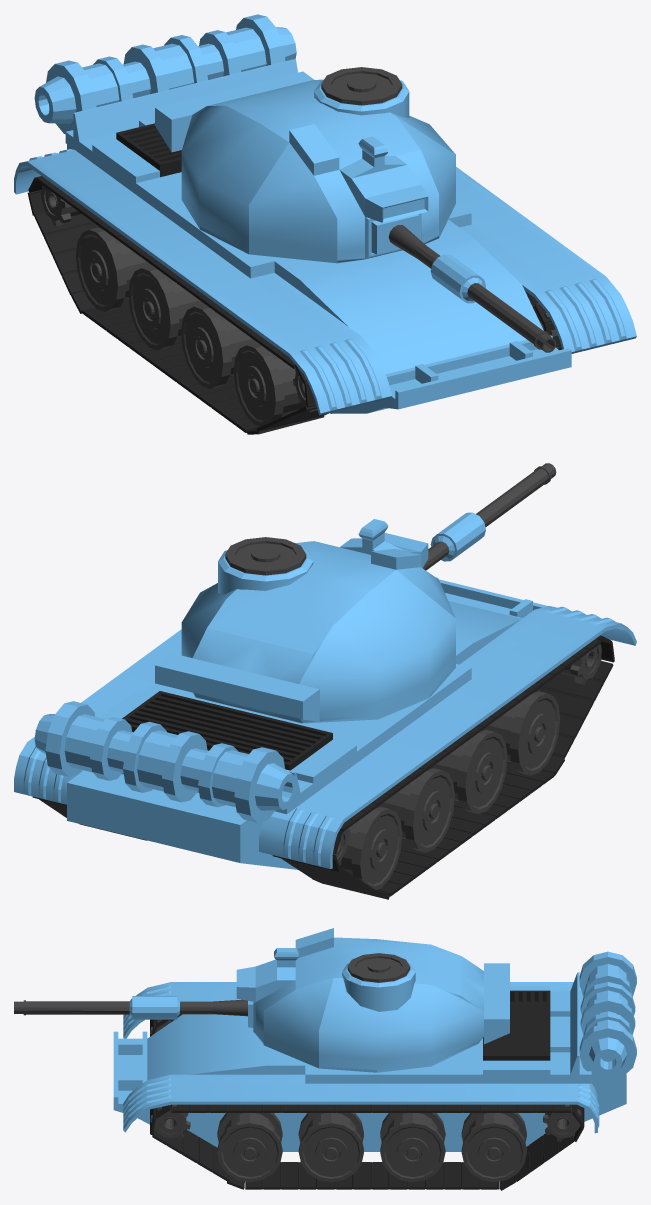
File: 3DLightTank.fbx
The picture shows the model from 3 angles, top to bottom: view 1: azimuth 30°, elevation 25°; view 2: azimuth 150°, elevation 25°; view 3: azimuth 270°, elevation 25°; orthographic projection. The views are drawn at different scales.
Visible parts, largest first — view 1: Body, Tower, Cannon; view 2: Body, Tower, Cannon; view 3: Body, Tower, Cannon.
Part boxes in pixels (x1,y1,x2,y2): Body: (14,14,636,434); Tower: (155,67,455,263); Cannon: (388,225,556,352); Body: (14,577,636,899); Tower: (155,519,455,723); Cannon: (423,463,556,570); Body: (113,951,636,1190); Tower: (236,928,509,1072); Cannon: (14,996,247,1019).
Bounding box in the file's own units: 84.97 × 61.45 × 187.
